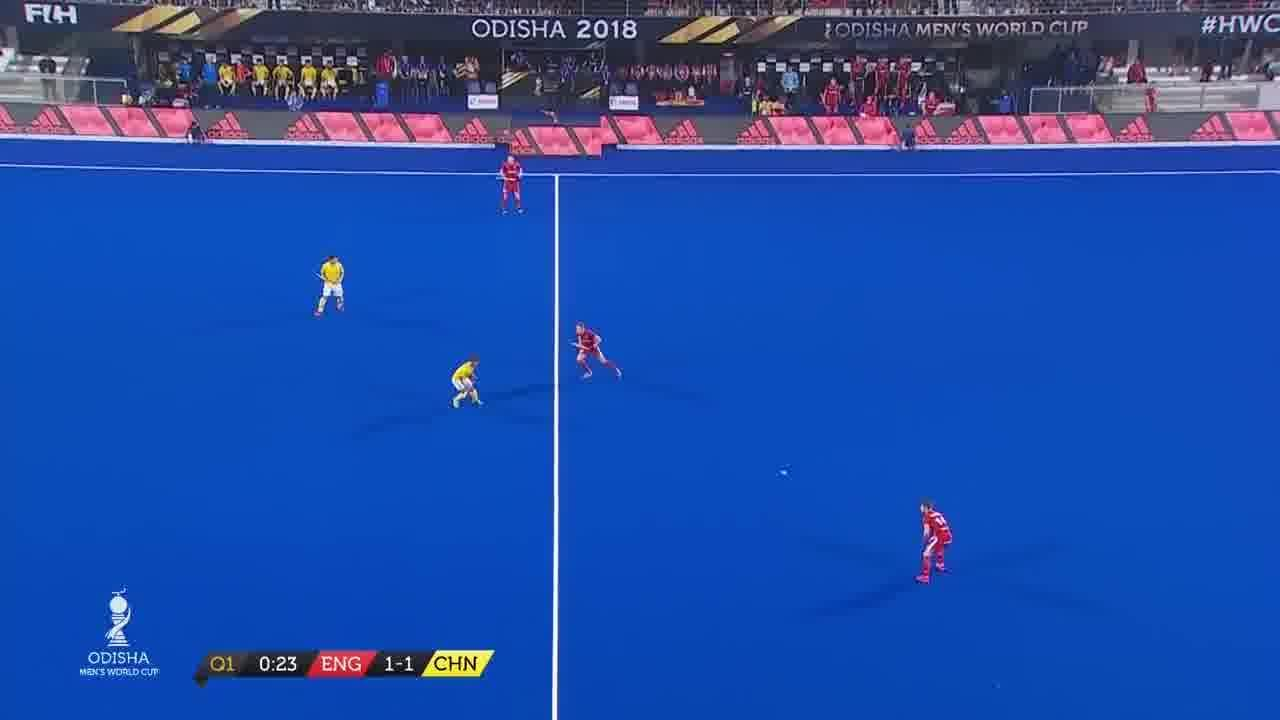ball: (776, 464, 792, 480)
